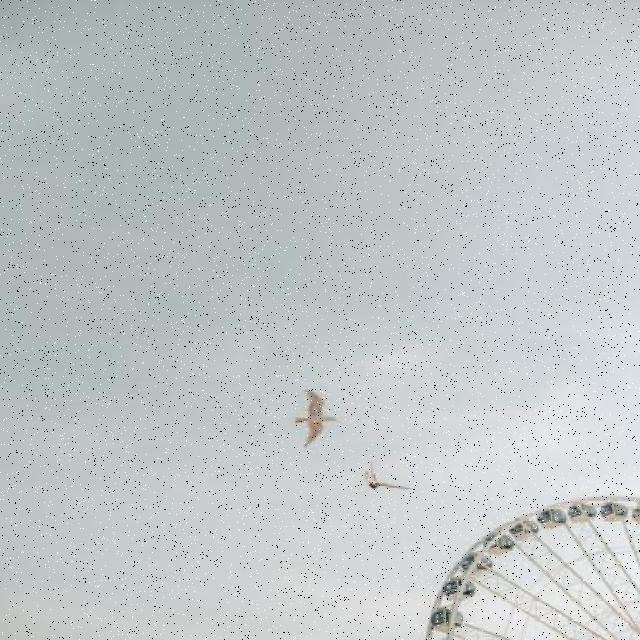bird: (290, 390, 344, 448), (361, 462, 410, 493)
